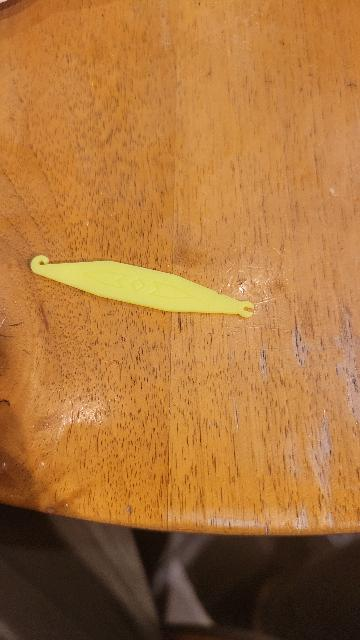Plastik: (26, 246, 259, 333)
